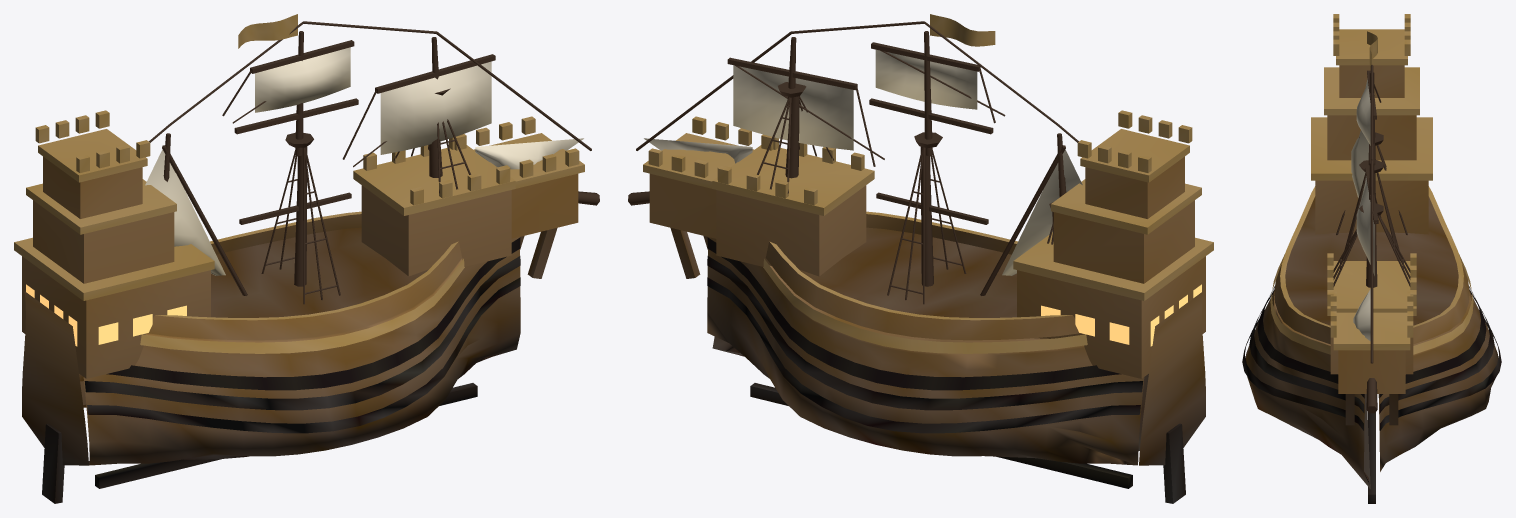
File: garden-hero-carrack.glb
3 renders of one model, left to right at view 1: azimuth 30°, elevation 25°; view 2: azimuth 150°, elevation 25°; view 3: azimuth 270°, elevation 25°, orthographic. The views are drawn at different scales.
Parts seen in each view (by area): view 1: wood-hull, sail-hull, spar-hull, trim-hull, glow-hull; view 2: wood-hull, spar-hull, sail-hull, trim-hull, glow-hull; view 3: wood-hull, spar-hull, sail-hull, trim-hull.
Boxes of the visible parts, x1,y1,x2,y2 form: wood-hull: (14, 14, 584, 503); sail-hull: (145, 47, 583, 275); spar-hull: (149, 21, 599, 304); trim-hull: (140, 258, 464, 353); glow-hull: (26, 284, 186, 346); wood-hull: (643, 14, 1213, 503); spar-hull: (628, 21, 1078, 304); sail-hull: (644, 49, 1082, 275); trim-hull: (763, 258, 1087, 353); glow-hull: (1041, 284, 1201, 346); wood-hull: (1242, 14, 1501, 503); spar-hull: (1333, 65, 1410, 413); sail-hull: (1351, 79, 1374, 341); trim-hull: (1270, 254, 1473, 354).
Size of the model in its own units: 12.8 by 9.45 by 5.95.
